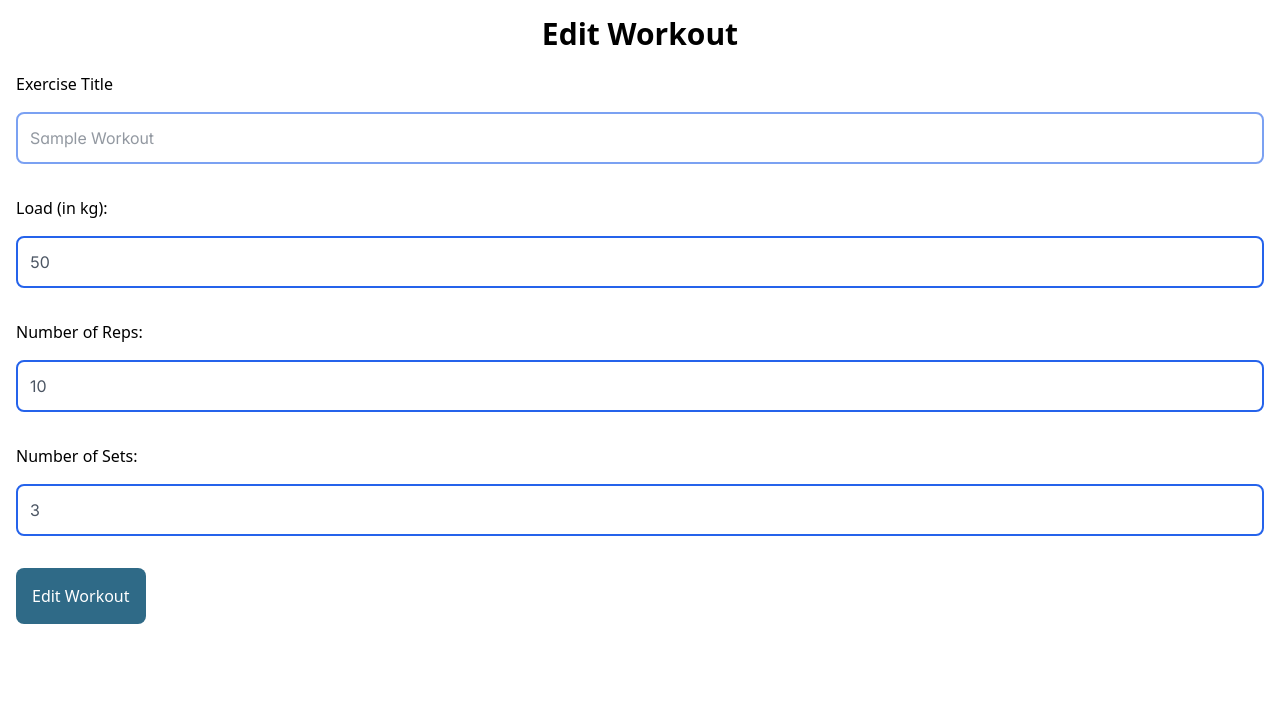
EditWorkout Component › should show an error message when submitting without filling out all fields
// Submit the form without filling out all fields
What coordinates should you click on to do the following:
click the button with test id "submit"
I would click on:
 (81, 596)
Its box is [16,568,146,624].
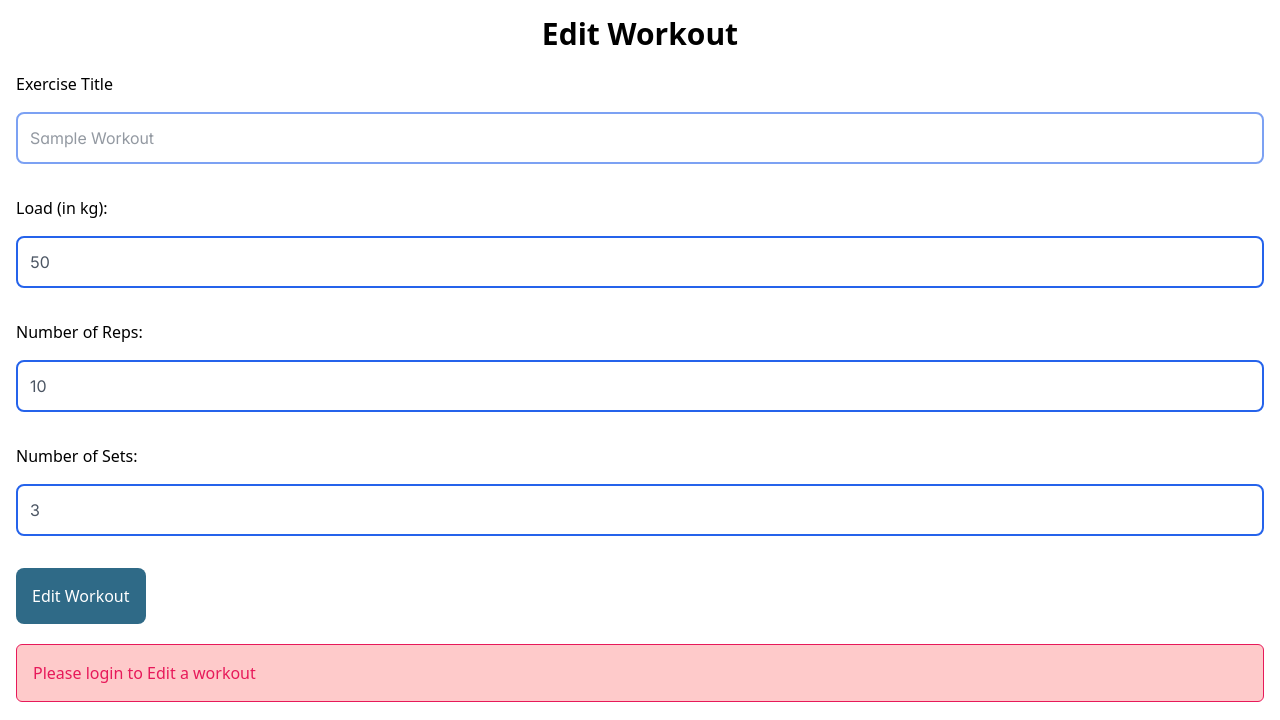
Now the text "Please login to Edit a workout" is shown, box [16,644,1264,702]
